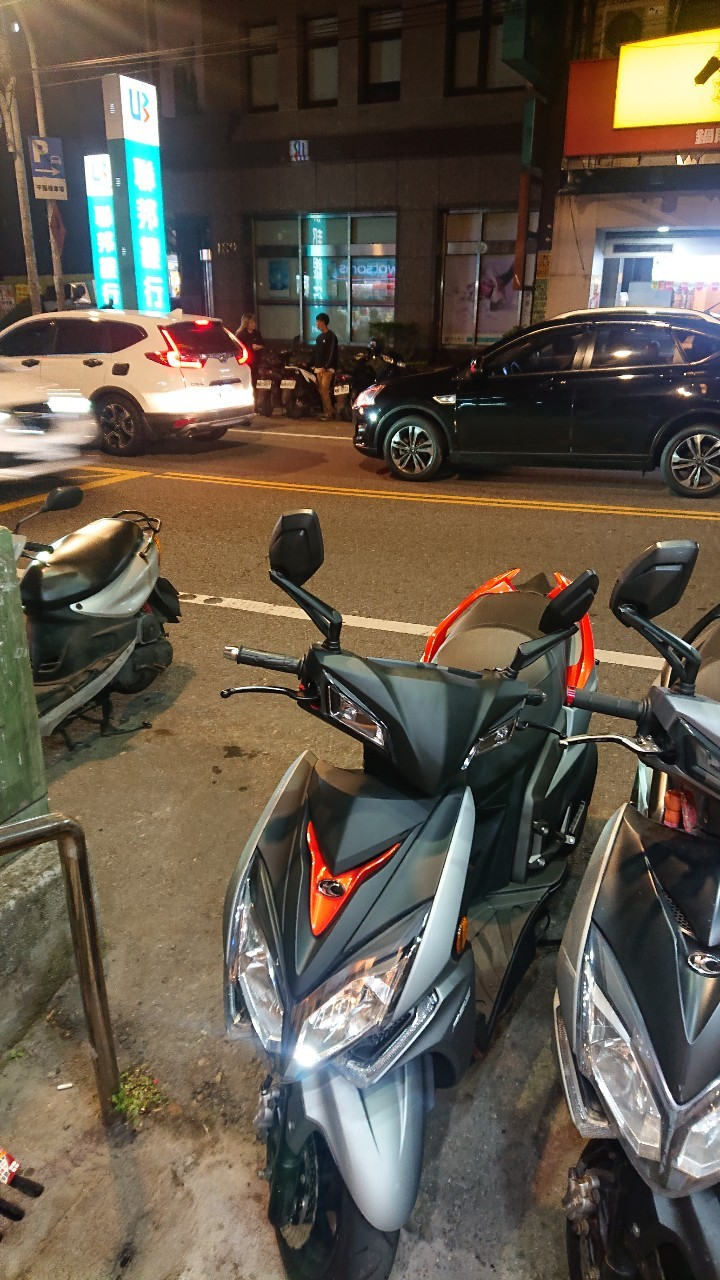people: (312, 312, 342, 414)
